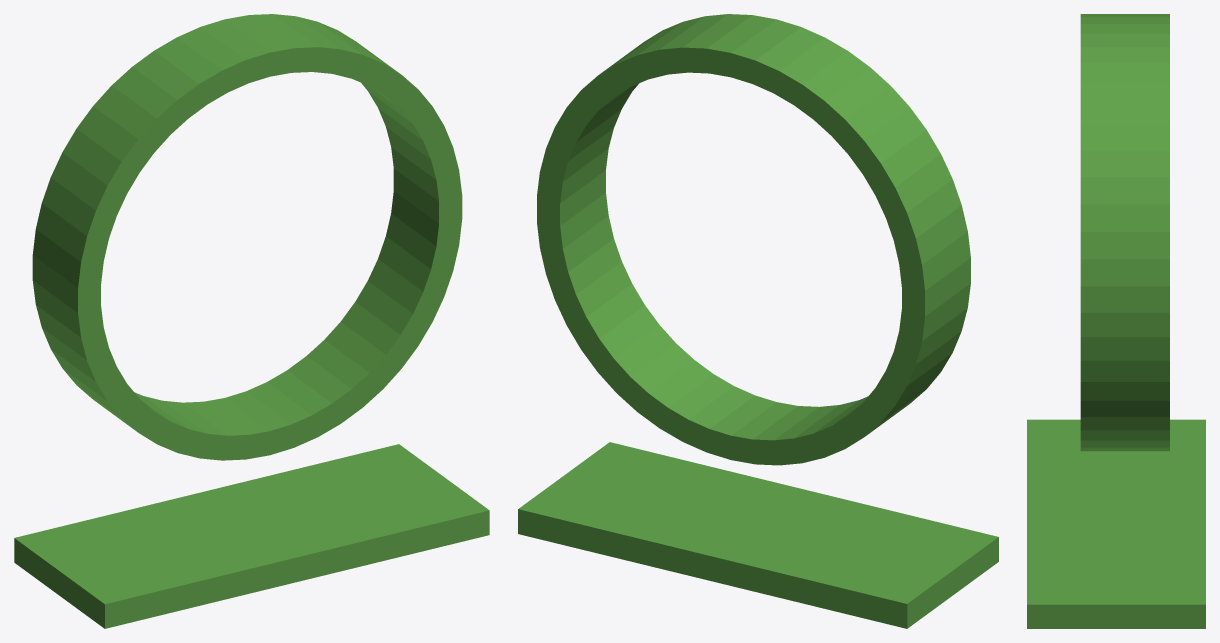
File: tinker.obj
The picture shows the model from 3 angles, left to right: view 1: azimuth 30°, elevation 25°; view 2: azimuth 150°, elevation 25°; view 3: azimuth 270°, elevation 25°; orthographic projection. The views are drawn at different scales.
Parts seen in each view (by area): view 1: obj_0; view 2: obj_0; view 3: obj_0.
Part boxes in pixels (left/top/right/bottom): obj_0: left=14, top=14, right=489, bottom=628; obj_0: left=518, top=14, right=998, bottom=628; obj_0: left=1027, top=14, right=1205, bottom=628.
Bounding box in the file's own units: 49 × 62 × 20.
